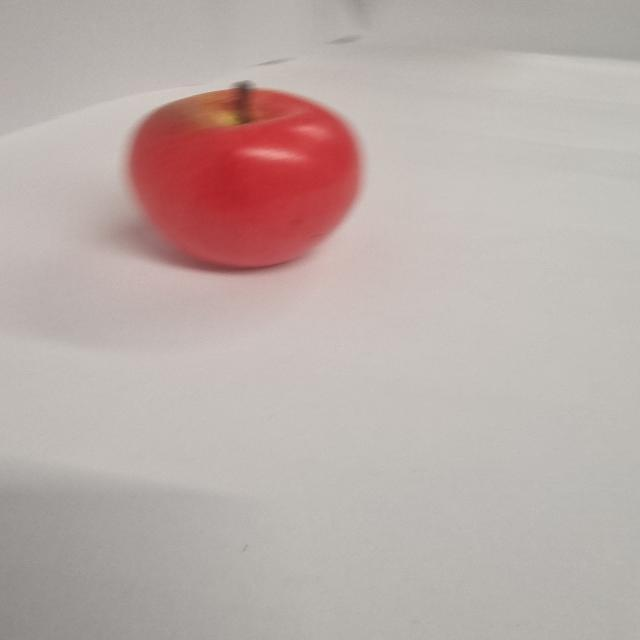apple: (130, 82, 364, 268)
